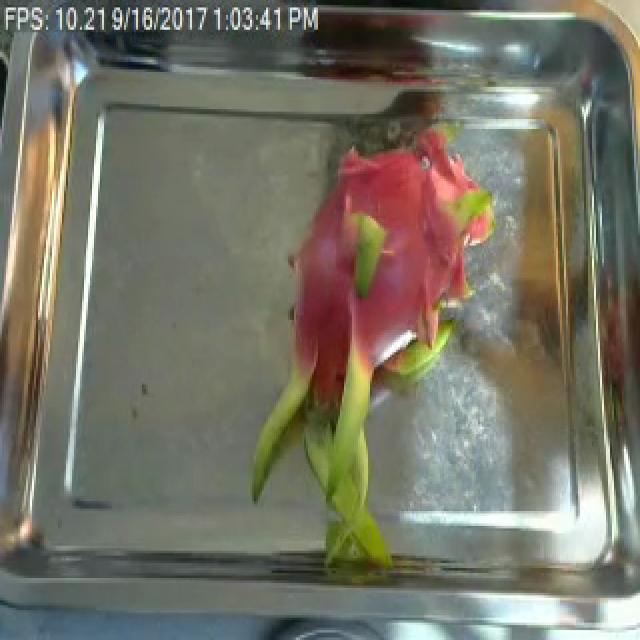fruit: (232, 137, 490, 566)
